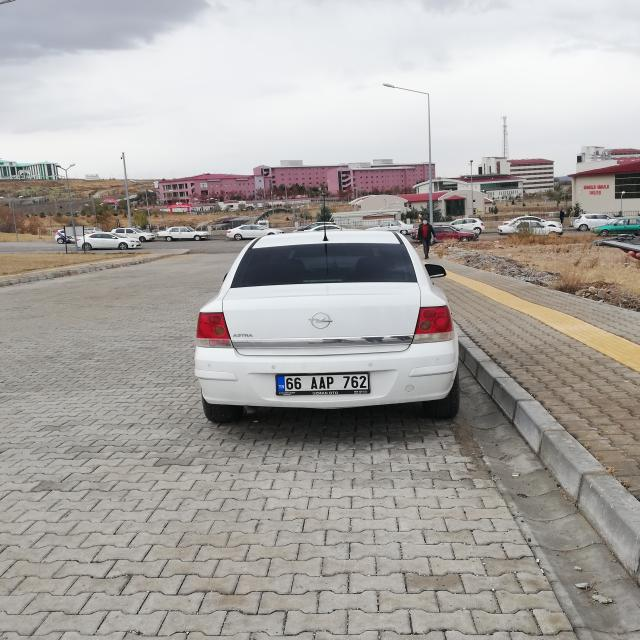license_plate: (275, 373, 368, 390)
